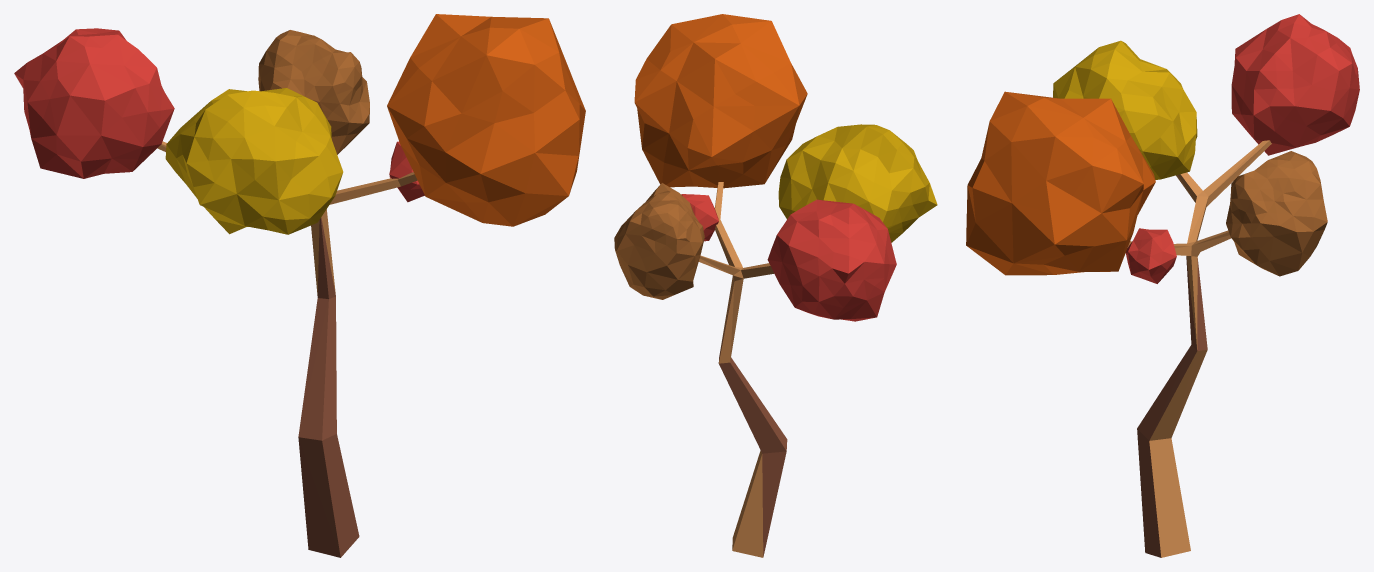
Rendered from Tree_autumnFBX.fbx.
3 views of the same model, side by side, from view 1: azimuth 30°, elevation 25°; view 2: azimuth 150°, elevation 25°; view 3: azimuth 270°, elevation 25° (orthographic). The views are drawn at different scales.
Parts seen in each view (by area): view 1: Cube; view 2: Cube; view 3: Cube.
Part boxes in pixels (x1,y1,x2,y2): Cube: (14, 14, 585, 557); Cube: (614, 14, 937, 557); Cube: (966, 14, 1359, 557).
Size of the model in its own units: 649 by 806 by 578.
